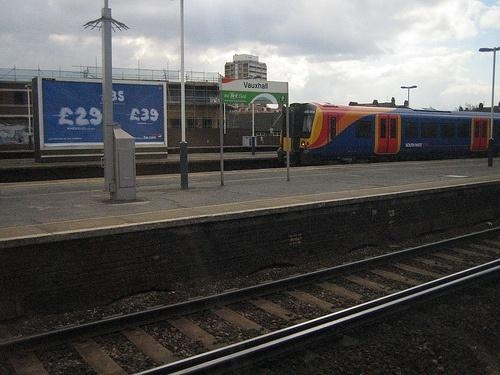train: (282, 100, 500, 167)
